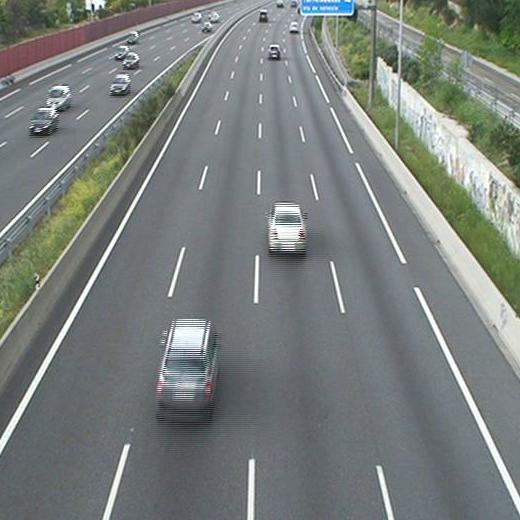car: (157, 318, 220, 428), (266, 203, 309, 257), (268, 43, 281, 59)
